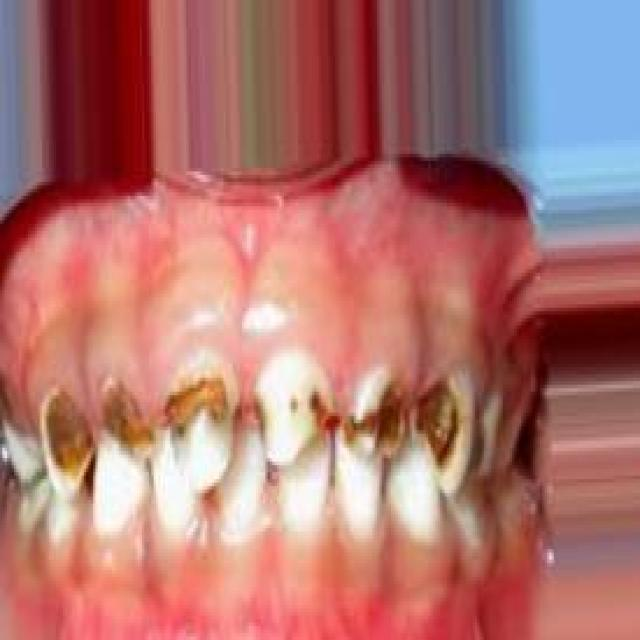caries: (162, 350, 241, 482), (252, 364, 337, 467), (411, 357, 472, 490), (34, 377, 93, 503), (342, 360, 408, 471), (98, 364, 156, 475)
